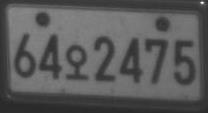2: (93, 36, 116, 82)
4: (38, 33, 62, 80), (119, 36, 143, 83)
5: (172, 39, 197, 86)
6: (12, 32, 37, 79)
7: (144, 38, 168, 85)
오: (64, 44, 89, 80)
